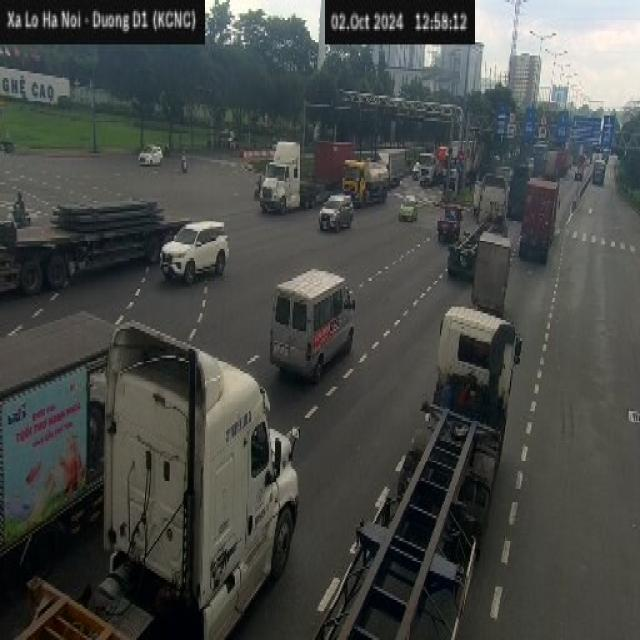car: (268, 271, 361, 380), (159, 218, 229, 284), (320, 193, 366, 239), (399, 184, 418, 229), (138, 142, 162, 164)
container-truck: (5, 317, 301, 640), (303, 301, 521, 640), (0, 208, 166, 287), (447, 171, 510, 282), (261, 140, 353, 214), (522, 175, 558, 277)
motorcycle: (181, 164, 194, 178)
person: (12, 189, 24, 224), (180, 147, 188, 172)
truck: (474, 228, 514, 314), (345, 164, 393, 212), (435, 199, 465, 248), (414, 142, 444, 188), (381, 145, 411, 187), (530, 145, 564, 171), (591, 163, 615, 194)
